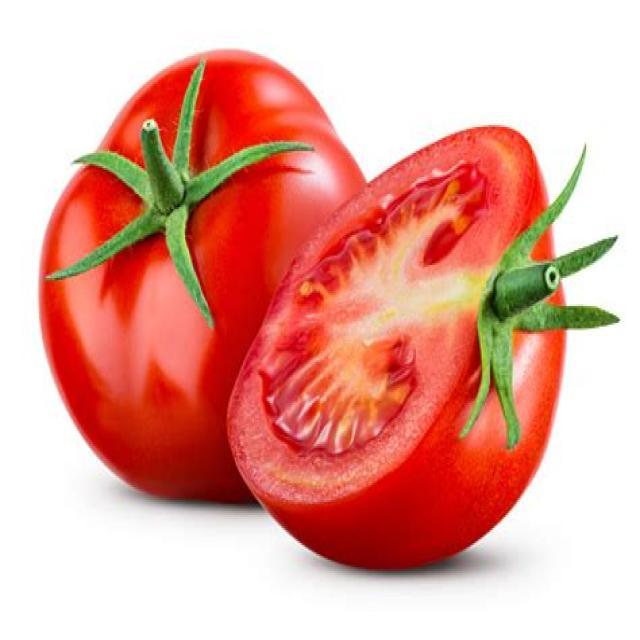Tomato: (224, 125, 618, 575), (37, 50, 367, 507)
